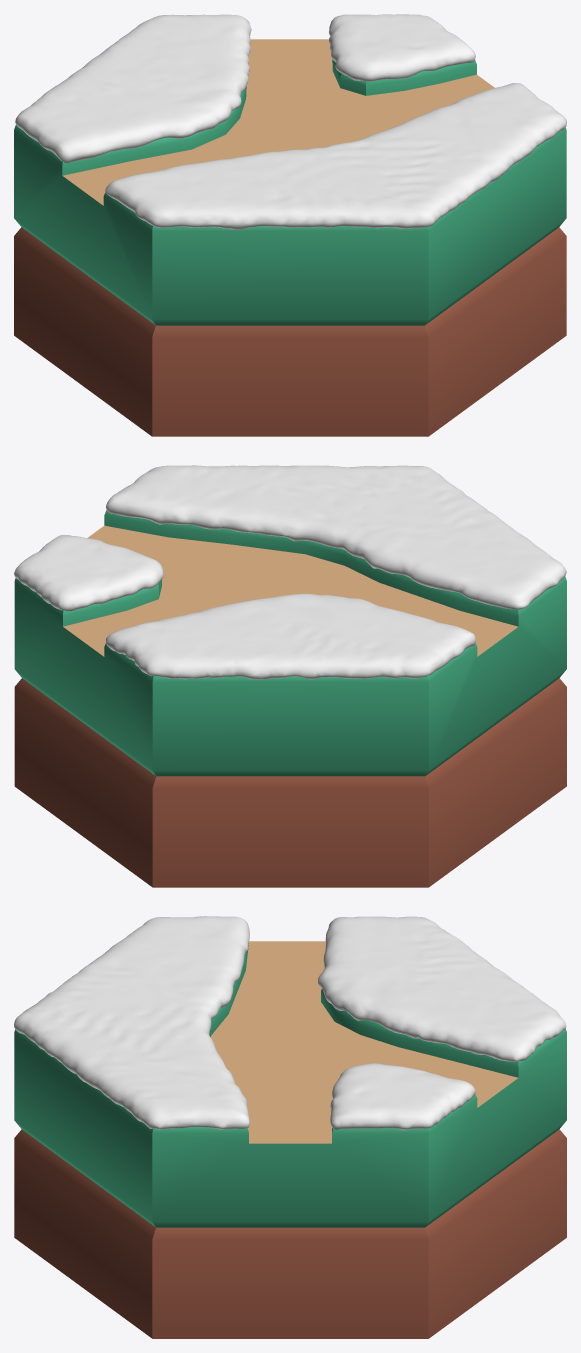
The model's file is snow_hex_forest_roadF_detail.fbx.
3 views of the same model, one above another, from view 1: azimuth 30°, elevation 25°; view 2: azimuth 150°, elevation 25°; view 3: azimuth 270°, elevation 25° (orthographic).
Visible parts, largest first — view 1: SnowBall.001, hex_forest_roadF_detail.001, hex_forest_roadF_detail.002, hex_forest_roadF_detail; view 2: SnowBall.001, hex_forest_roadF_detail.001, hex_forest_roadF_detail.002, hex_forest_roadF_detail; view 3: SnowBall.001, hex_forest_roadF_detail.001, hex_forest_roadF_detail.002, hex_forest_roadF_detail.
Boxes of the visible parts, x1=… form: SnowBall.001: x1=15, y1=14, x2=566, y2=229; hex_forest_roadF_detail.001: x1=14, y1=227, x2=566, y2=436; hex_forest_roadF_detail.002: x1=14, y1=59, x2=566, y2=325; hex_forest_roadF_detail: x1=62, y1=39, x2=494, y2=205; SnowBall.001: x1=14, y1=465, x2=566, y2=679; hex_forest_roadF_detail.001: x1=14, y1=678, x2=566, y2=887; hex_forest_roadF_detail.002: x1=14, y1=510, x2=566, y2=776; hex_forest_roadF_detail: x1=63, y1=525, x2=517, y2=656; SnowBall.001: x1=14, y1=916, x2=566, y2=1130; hex_forest_roadF_detail.001: x1=14, y1=1129, x2=566, y2=1338; hex_forest_roadF_detail.002: x1=14, y1=943, x2=566, y2=1227; hex_forest_roadF_detail: x1=211, y1=941, x2=518, y2=1143.
Size of the model in its own units: 203 by 104 by 231.
